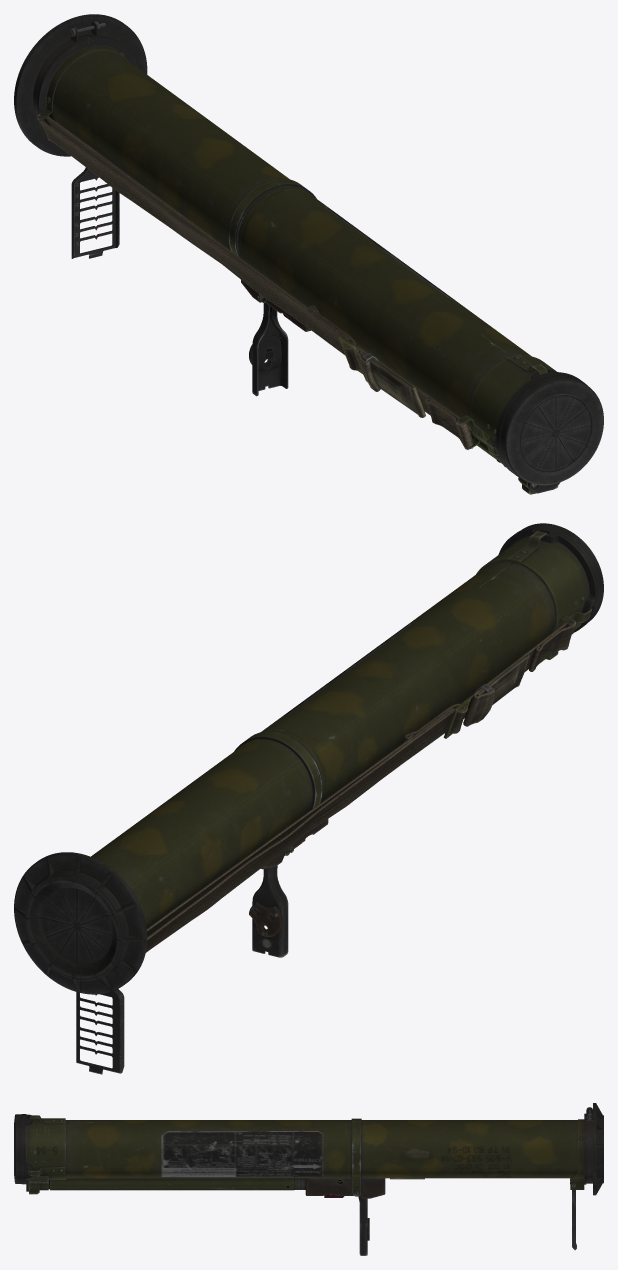
3 views of the same model, one above another, from view 1: azimuth 30°, elevation 25°; view 2: azimuth 150°, elevation 25°; view 3: azimuth 270°, elevation 25° (orthographic). The views are drawn at different scales.
Parts seen in each view (by area): view 1: TW_676bf44c5539167c3603e869_PZ_Import; view 2: TW_676bf44c5539167c3603e869_PZ_Import; view 3: TW_676bf44c5539167c3603e869_PZ_Import.
Boxes of the visible parts, x1,y1,x2,y2 form: TW_676bf44c5539167c3603e869_PZ_Import: (14, 14, 603, 494); TW_676bf44c5539167c3603e869_PZ_Import: (14, 523, 603, 1074); TW_676bf44c5539167c3603e869_PZ_Import: (14, 1103, 603, 1255).
Bounding box in the file's own units: 0.0697 × 0.4458 × 0.12.
1 material, 1 textured.
